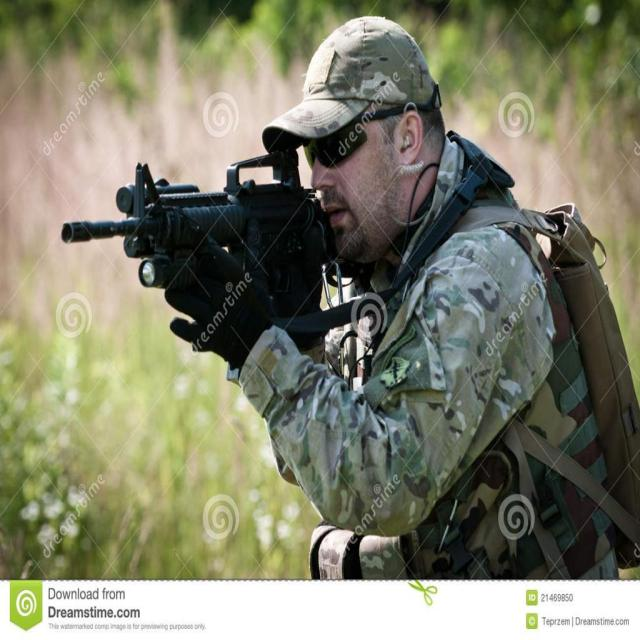Face: (292, 96, 441, 255)
